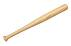baseball bat: (2, 4, 68, 41)
